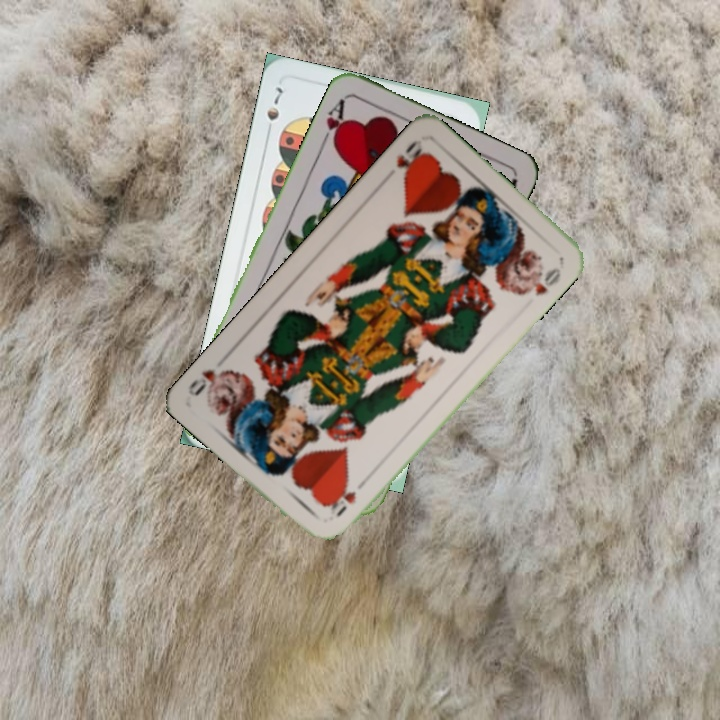HA: (316, 94, 350, 150)
HO: (392, 136, 428, 181), (324, 480, 359, 519)
S7: (262, 83, 285, 139)
